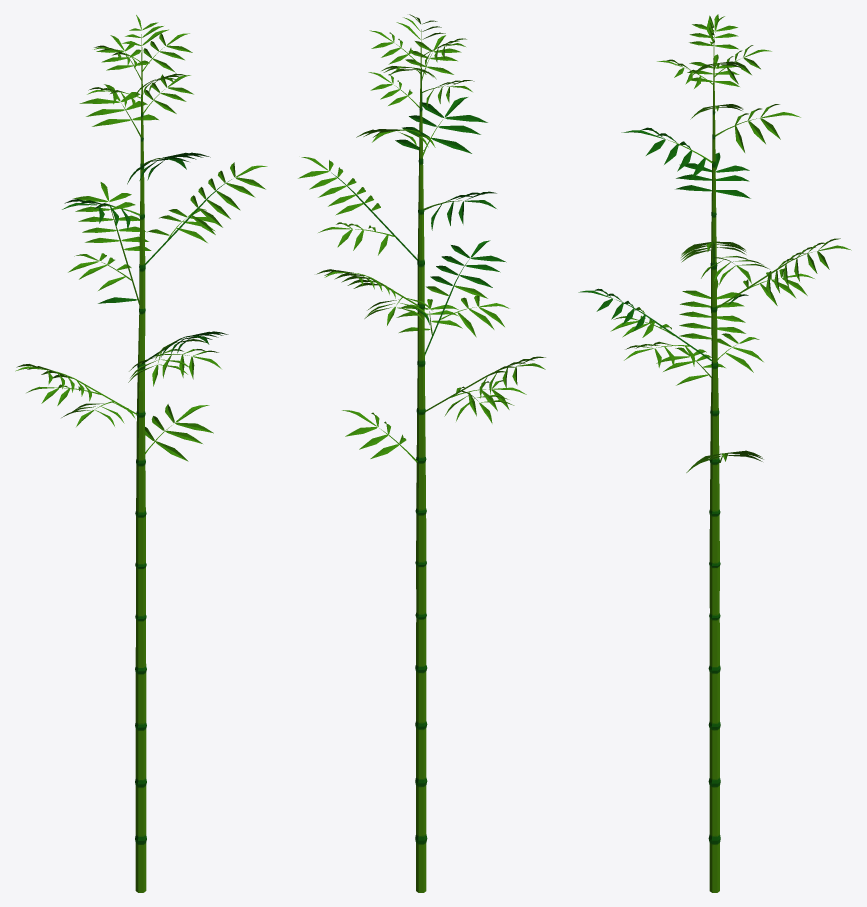
File: bambooOptimized.fbx
The picture shows the model from 3 angles, left to right: view 1: azimuth 30°, elevation 25°; view 2: azimuth 150°, elevation 25°; view 3: azimuth 270°, elevation 25°; orthographic projection.
Parts seen in each view (by area): view 1: Cylinder; view 2: Cylinder; view 3: Cylinder.
Boxes of the visible parts, left/top/right/bottom form: Cylinder: left=15, top=15, right=267, bottom=892; Cylinder: left=298, top=14, right=545, bottom=892; Cylinder: left=578, top=14, right=851, bottom=892.
Size of the model in its own units: 491 by 1638 by 468.
1 material, 1 textured.
